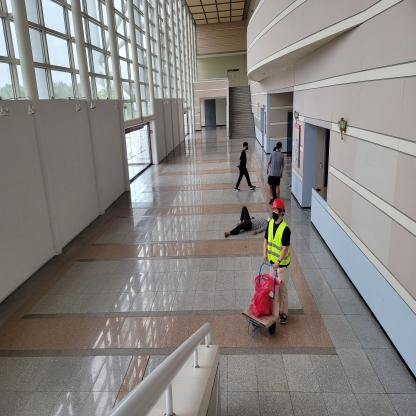Fall: (225, 214, 270, 236)
Standing: (269, 200, 289, 322), (238, 143, 254, 195), (270, 142, 284, 200)
safety_equipment: (268, 219, 290, 265), (273, 197, 285, 209)
